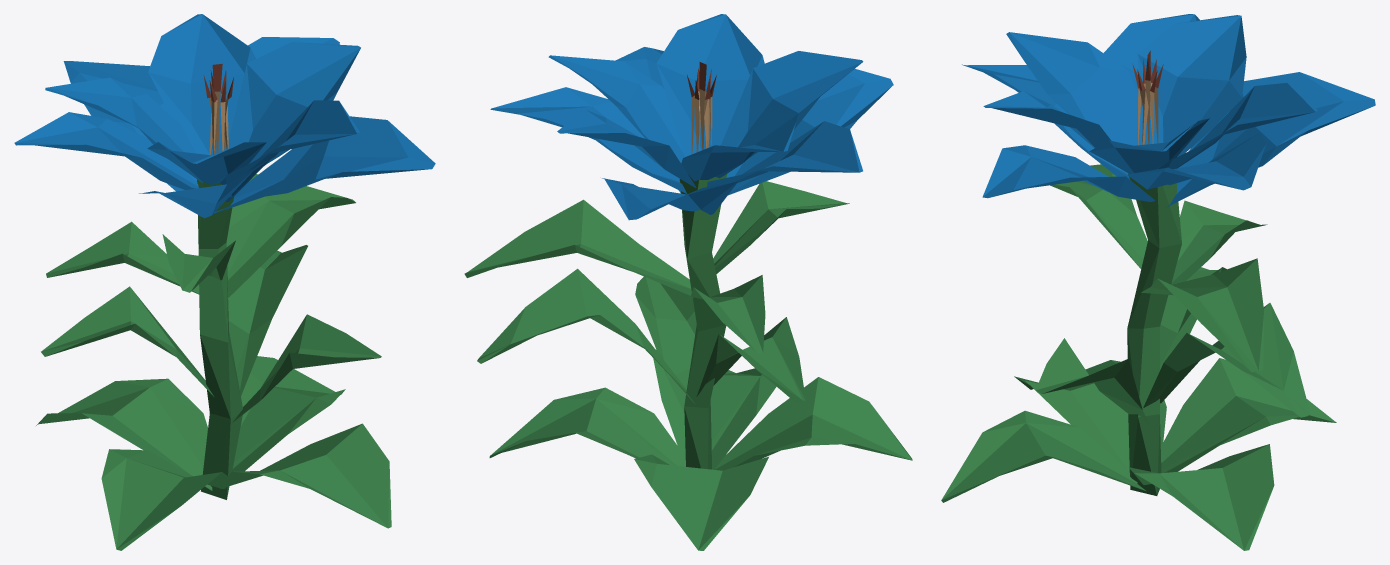
File: Blume blau.glb
3 renders of one model, left to right at view 1: azimuth 30°, elevation 25°; view 2: azimuth 150°, elevation 25°; view 3: azimuth 270°, elevation 25°, orthographic. The views are drawn at different scales.
Visible parts, largest first — view 1: Cylinder; view 2: Cylinder; view 3: Cylinder.
Part boxes in pixels (x1=…): Cylinder: x1=14, y1=14, x2=435, y2=550; Cylinder: x1=464, y1=14, x2=912, y2=550; Cylinder: x1=941, y1=14, x2=1375, y2=550.
Size of the model in its own units: 1.79 by 1.98 by 1.78.
